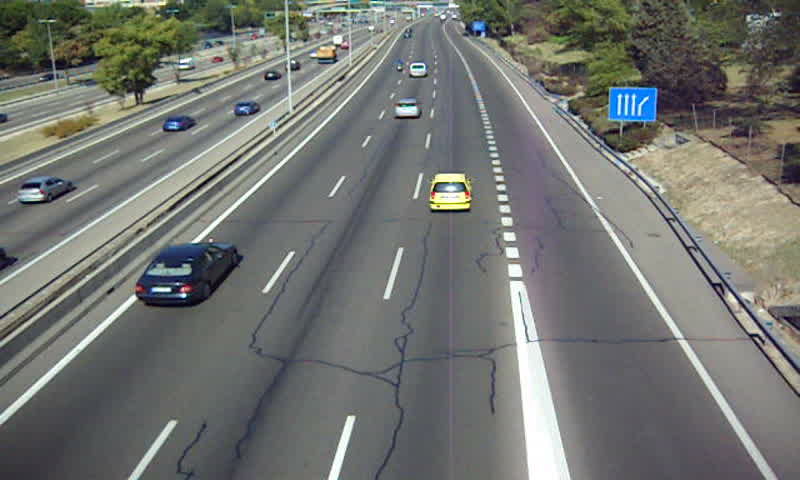car: (135, 243, 239, 308), (428, 172, 474, 209), (394, 98, 421, 120), (409, 61, 428, 78)
